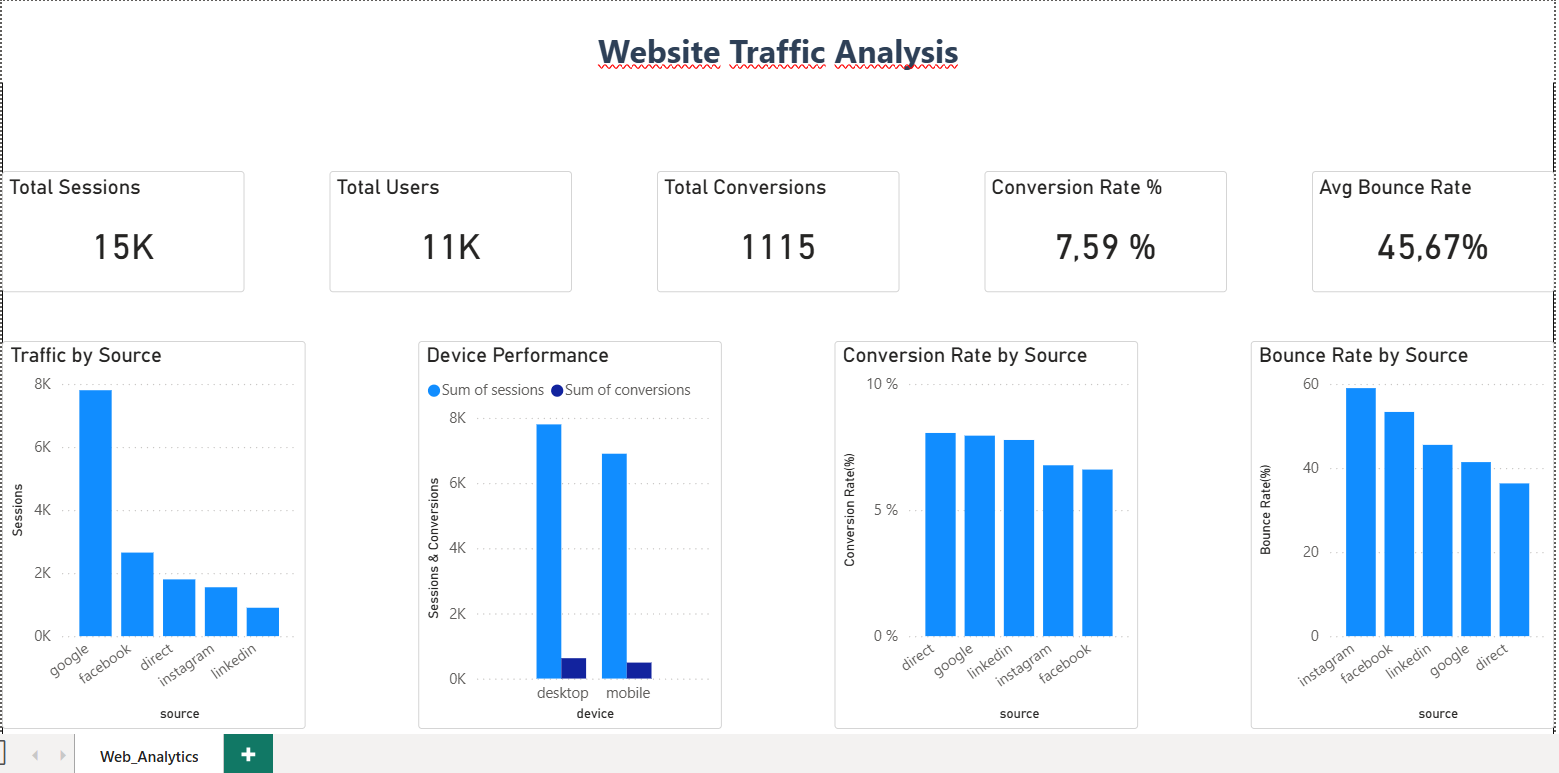

Layout of this report page (visuals, bound fields, positions):
{"tool":"powerbi","page":{"name":"Web_Analytics","canvas":[1280,720],"ordinal":0},"visuals":[{"type":"card","title":"Total Conversions","fields":{"Values":["Sum(website_traffic_clean.conversions)"]},"box":[540.4,140.5,200,100],"z":0},{"type":"card","title":"Total Users","fields":{"Values":["Sum(website_traffic_clean.users)"]},"box":[270.2,140.5,200,100],"z":1000},{"type":"card","title":"Total Sessions","fields":{"Values":["Sum(website_traffic_clean.sessions)"]},"box":[0,140.5,200,100],"z":2000},{"type":"card","title":"Avg Bounce Rate","fields":{"Values":["website_traffic_clean.Avg Bounce Rate"]},"box":[1080.8,140.5,200,100],"z":3000},{"type":"clusteredColumnChart","title":"Traffic by Source","fields":{"Category":["website_traffic_clean.source"],"Y":["Sum(website_traffic_clean.sessions)"]},"box":[-0.4,280.8,250,320],"z":4000},{"type":"clusteredColumnChart","title":"Device Performance","fields":{"Category":["website_traffic_clean.device"],"Y":["Sum(website_traffic_clean.sessions)","Sum(website_traffic_clean.conversions)"]},"box":[342.9,280.8,250,320],"z":5000},{"type":"clusteredColumnChart","title":"Conversion Rate by Source","fields":{"Category":["website_traffic_clean.source"],"Y":["website_traffic_clean.Conversion Rate %"]},"box":[686.3,280.8,250,320],"z":6000},{"type":"clusteredColumnChart","title":"Bounce Rate by Source","fields":{"Category":["website_traffic_clean.source"],"Y":["Avg(website_traffic_clean.bounce_rate_%)"]},"box":[1029.6,280.8,250,320],"z":7000},{"type":"textbox","box":[-0.2,0,1280.3,67.3],"z":8000},{"type":"card","title":"Conversion Rate %","fields":{"Values":["website_traffic_clean.Conversion Rate %"]},"box":[810.6,140.5,200,100],"z":9000}]}

Visuals, with their boxes on the page's 1280x720 design canvas (x1, y1, x2, y2). These are canvas units, not pixel positions in the 1559x773 screenshot, which may show the page scaled, cropped or inside an application window:
"Total Conversions" card: 540,140,740,240
"Total Users" card: 270,140,470,240
"Total Sessions" card: 0,140,200,240
"Avg Bounce Rate" card: 1081,140,1281,240
"Traffic by Source" clusteredColumnChart: 0,281,250,601
"Device Performance" clusteredColumnChart: 343,281,593,601
"Conversion Rate by Source" clusteredColumnChart: 686,281,936,601
"Bounce Rate by Source" clusteredColumnChart: 1030,281,1280,601
textbox: 0,0,1280,67
"Conversion Rate %" card: 811,140,1011,240
